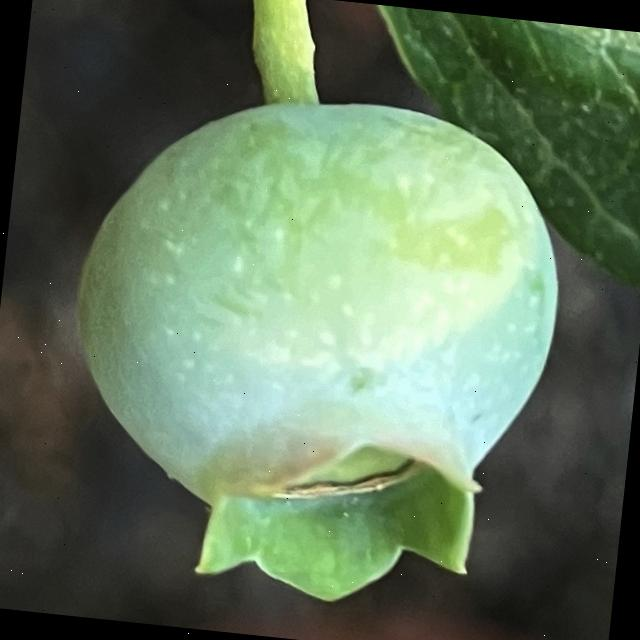Blueberries: (44, 67, 578, 623)
